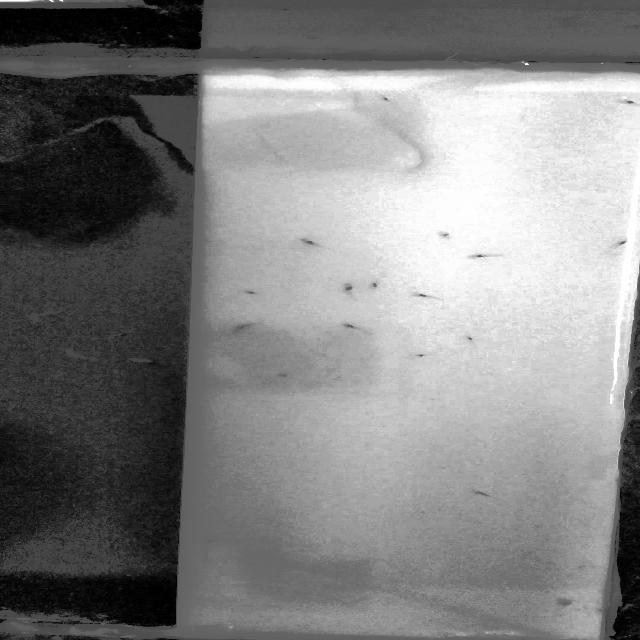shrimp: (471, 486, 497, 504), (300, 237, 332, 251), (469, 252, 507, 262), (618, 96, 640, 110), (341, 283, 360, 298), (608, 237, 628, 250), (550, 596, 578, 605), (411, 292, 442, 300), (368, 279, 382, 295), (434, 229, 456, 239), (232, 324, 258, 332), (378, 94, 398, 104), (341, 322, 364, 330), (238, 290, 262, 296), (414, 352, 432, 360), (277, 372, 296, 379), (464, 334, 474, 343)
